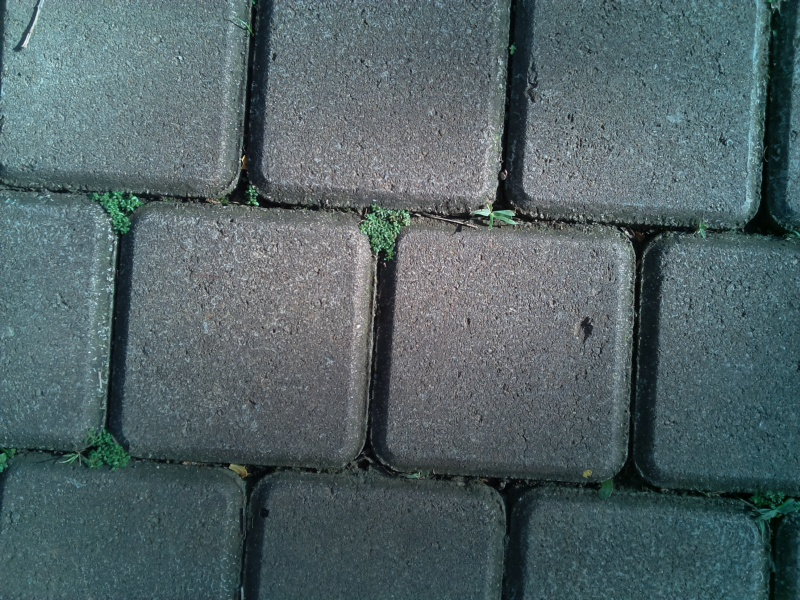Weed: (63, 422, 136, 482), (352, 202, 416, 268), (88, 182, 143, 239), (466, 194, 527, 239), (746, 479, 796, 533), (232, 178, 268, 215), (1, 440, 27, 482), (688, 216, 716, 248), (504, 36, 530, 62)
